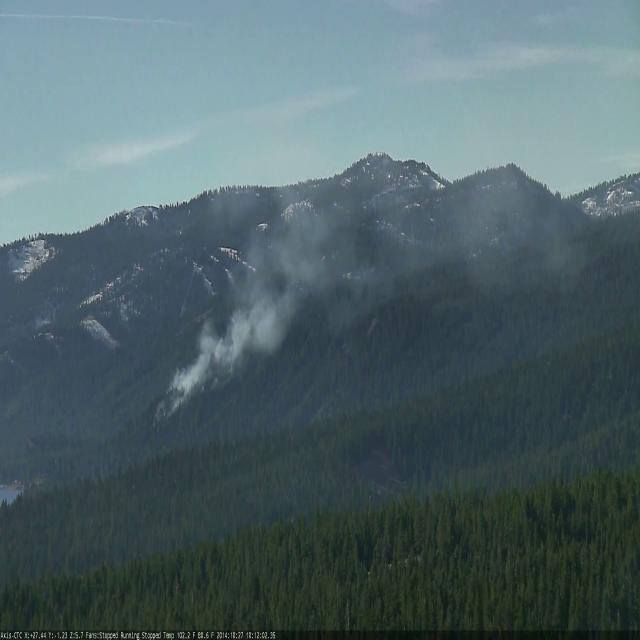smoke: (144, 134, 576, 442)
